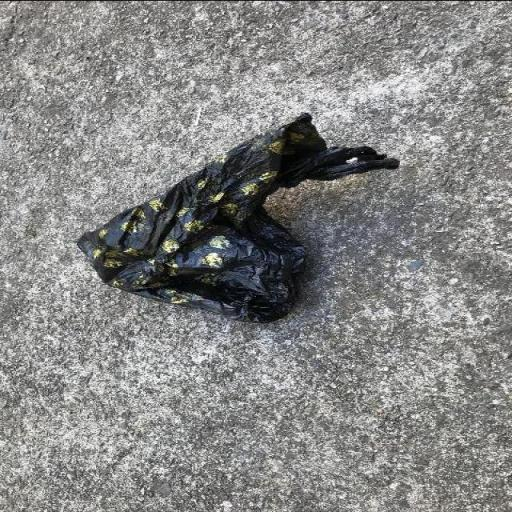plastic-bag: (74, 110, 406, 324)
